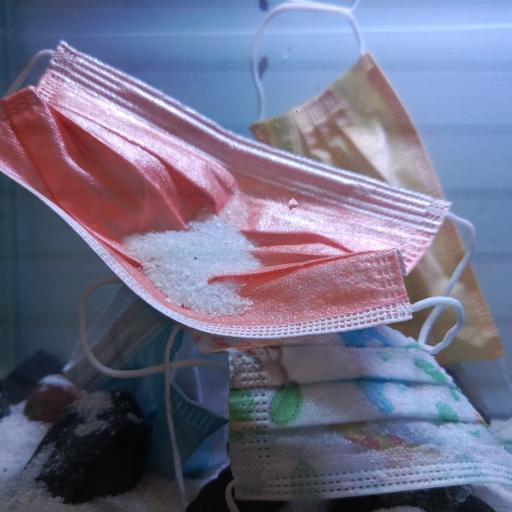mask: (2, 36, 478, 341), (250, 0, 504, 366), (227, 325, 512, 512), (63, 274, 232, 480)
